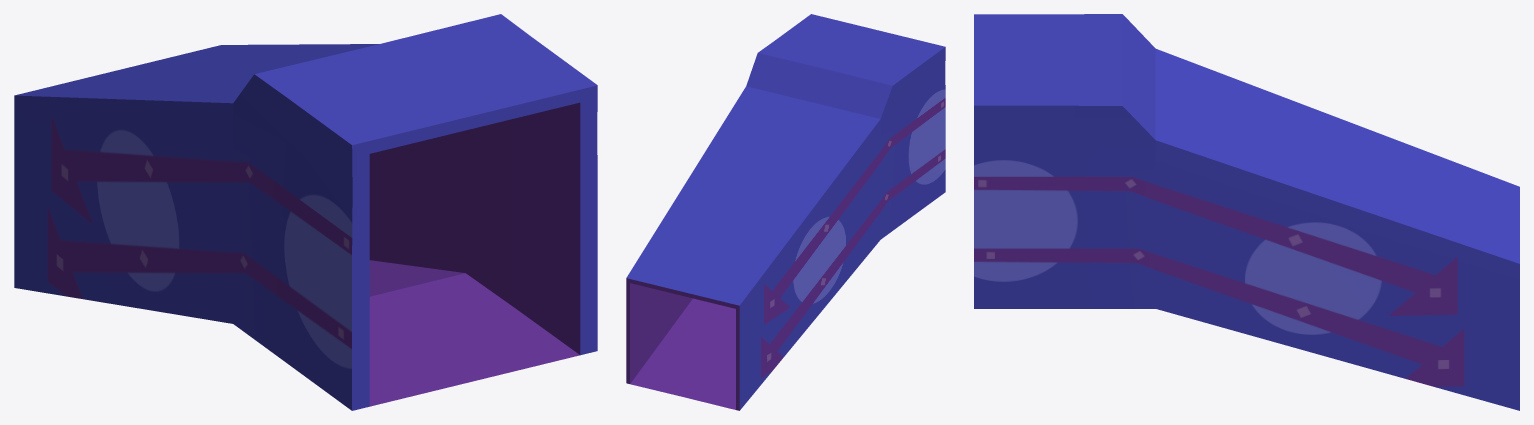
The model's file is SubwayEntrance NEW 2.fbx.
The picture shows the model from 3 angles, left to right: view 1: azimuth 30°, elevation 25°; view 2: azimuth 150°, elevation 25°; view 3: azimuth 270°, elevation 25°; orthographic projection. The views are drawn at different scales.
Visible parts, largest first — view 1: Subway_enterence_2:pPlane1; view 2: Subway_enterence_2:pPlane1; view 3: Subway_enterence_2:pPlane1.
Part boxes in pixels (box(x1,y1,x2,y2)): Subway_enterence_2:pPlane1: box(14, 14, 597, 410); Subway_enterence_2:pPlane1: box(626, 14, 945, 410); Subway_enterence_2:pPlane1: box(974, 14, 1519, 410).
Bounding box in the file's own units: 958 × 1517 × 2402.
Materials: 1 (1 with a texture image).
